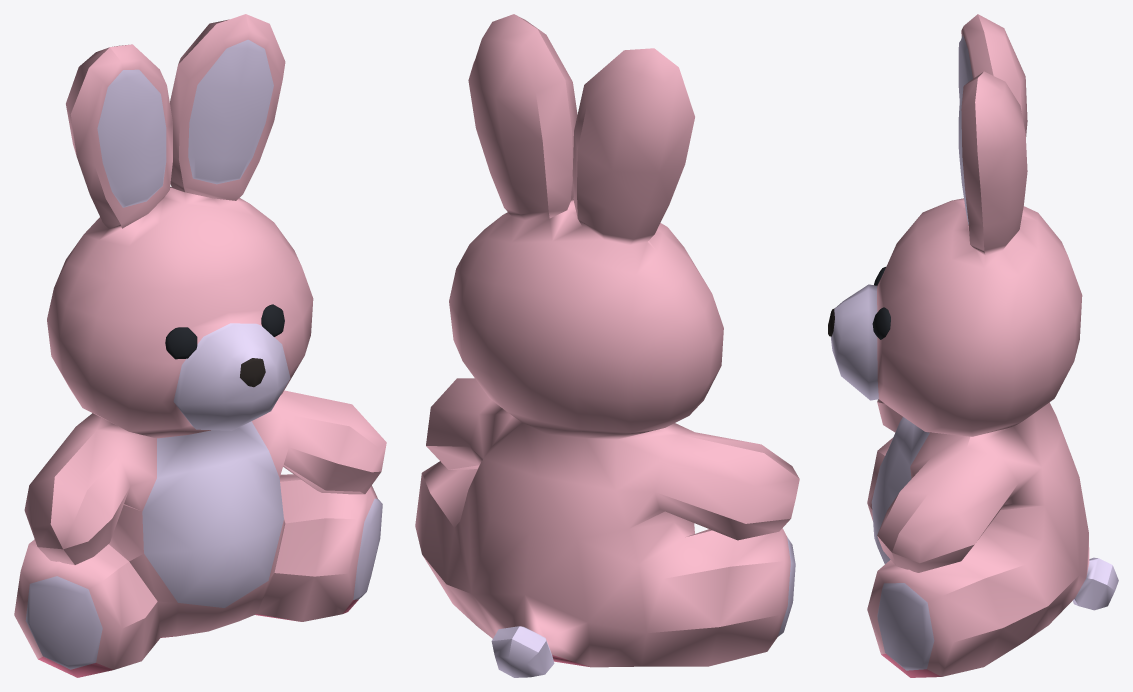
File: pelucia_coelho_pacote.glb
The picture shows the model from 3 angles, left to right: view 1: azimuth 30°, elevation 25°; view 2: azimuth 150°, elevation 25°; view 3: azimuth 270°, elevation 25°; orthographic projection. The views are drawn at different scales.
Visible parts, largest first — view 1: pelucia_coelho_pacote; view 2: pelucia_coelho_pacote; view 3: pelucia_coelho_pacote.
Boxes of the visible parts, x1,y1,x2,y2 form: pelucia_coelho_pacote: [14, 14, 386, 677]; pelucia_coelho_pacote: [415, 14, 799, 677]; pelucia_coelho_pacote: [828, 14, 1118, 677].
Bounding box in the file's own units: 0.3099 × 0.5016 × 0.229.
Materials: 1 (1 with a texture image).
